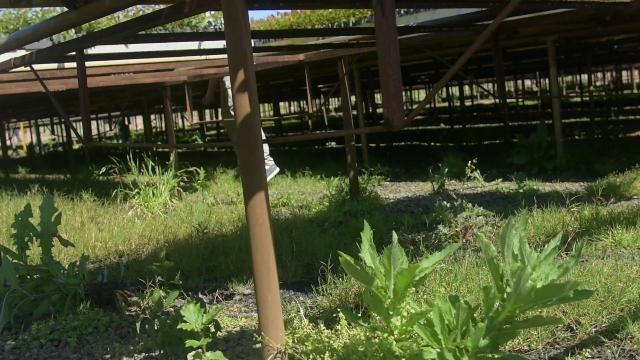MalezaMontesDelPlata: (460, 211, 594, 360), (340, 217, 462, 360), (0, 189, 81, 343), (85, 214, 247, 283), (128, 278, 233, 360), (269, 201, 398, 264), (100, 146, 210, 216), (421, 158, 450, 193)
